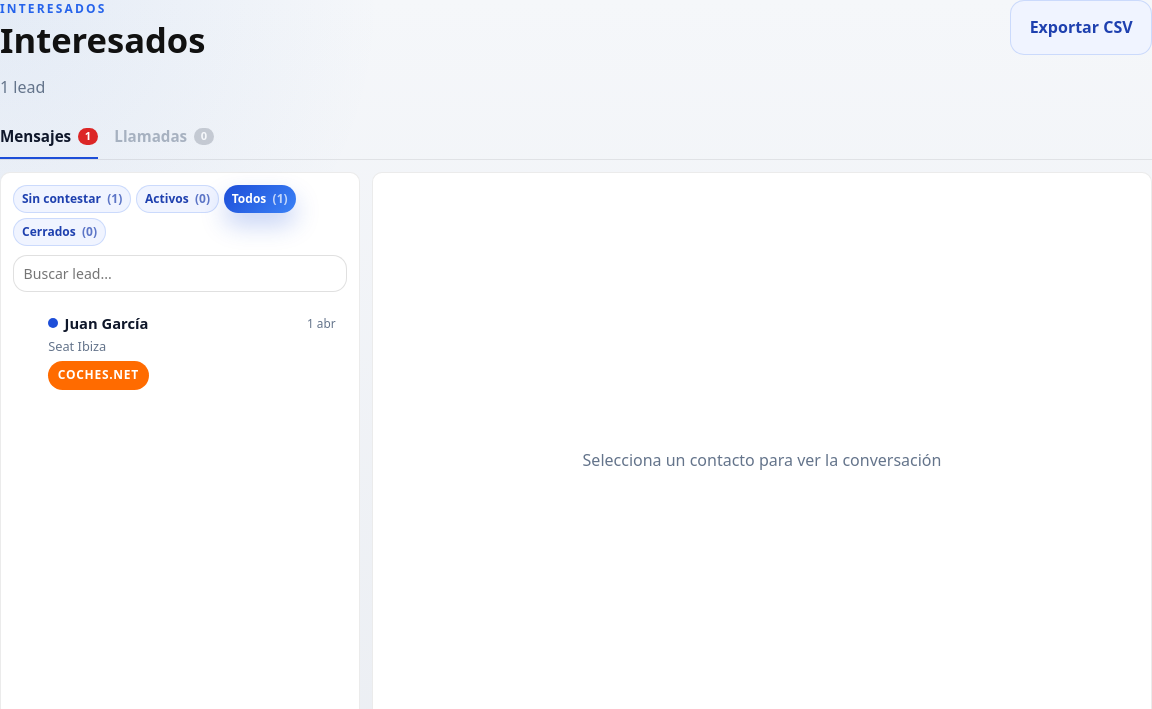
Test case: LeadsList — selección y detalle › clicking a lead in the list shows its detail header
What coordinates should you click on to do the following:
click the text "Juan García"
I would click on:
 (98, 323)
Its box is [48,312,148,334].
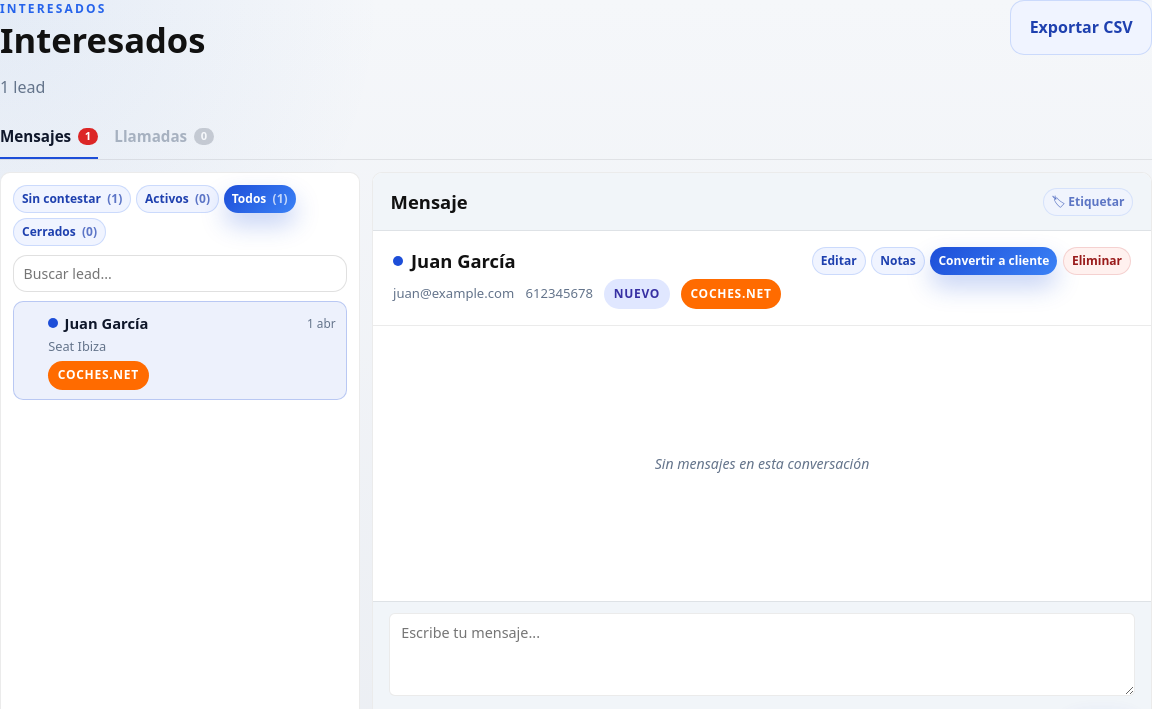
Result: the heading "Mensaje" is shown at [391,188,468,215]
Result: the text "juan@example.com" is shown at [393,284,514,304]
